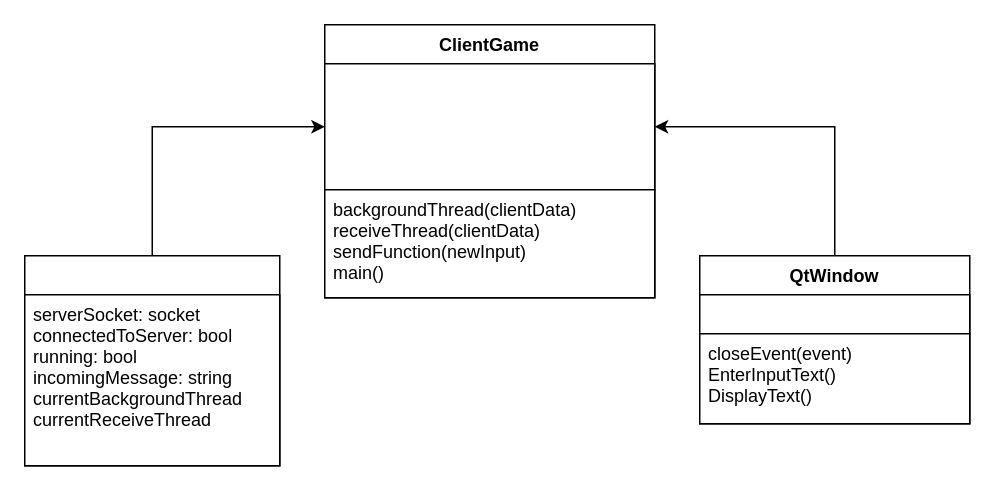
This 995x491 diagram has some shape labels left out. Here are the shapes that lost their labels. From the top down, the box of each, then its label:
(323, 62, 655, 190): clientData: ClientData() clientDataLock: threading.Lock() clientIsRunning: bool
(698, 293, 970, 334): Ui_MainWindow: qtCreatorFile
(23, 254, 280, 466): ClientData
